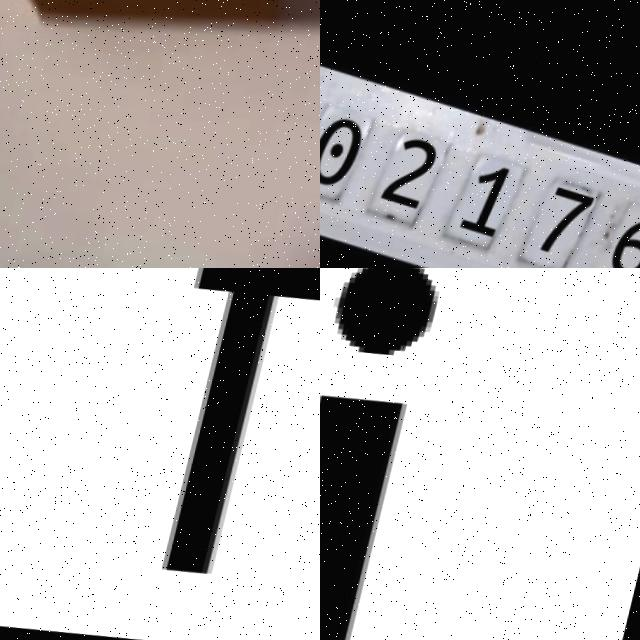0: (320, 98, 381, 202)
1: (448, 148, 535, 250)
2: (368, 116, 458, 225)
6: (597, 195, 640, 268)
7: (521, 170, 609, 268)
F: (125, 268, 320, 587)
